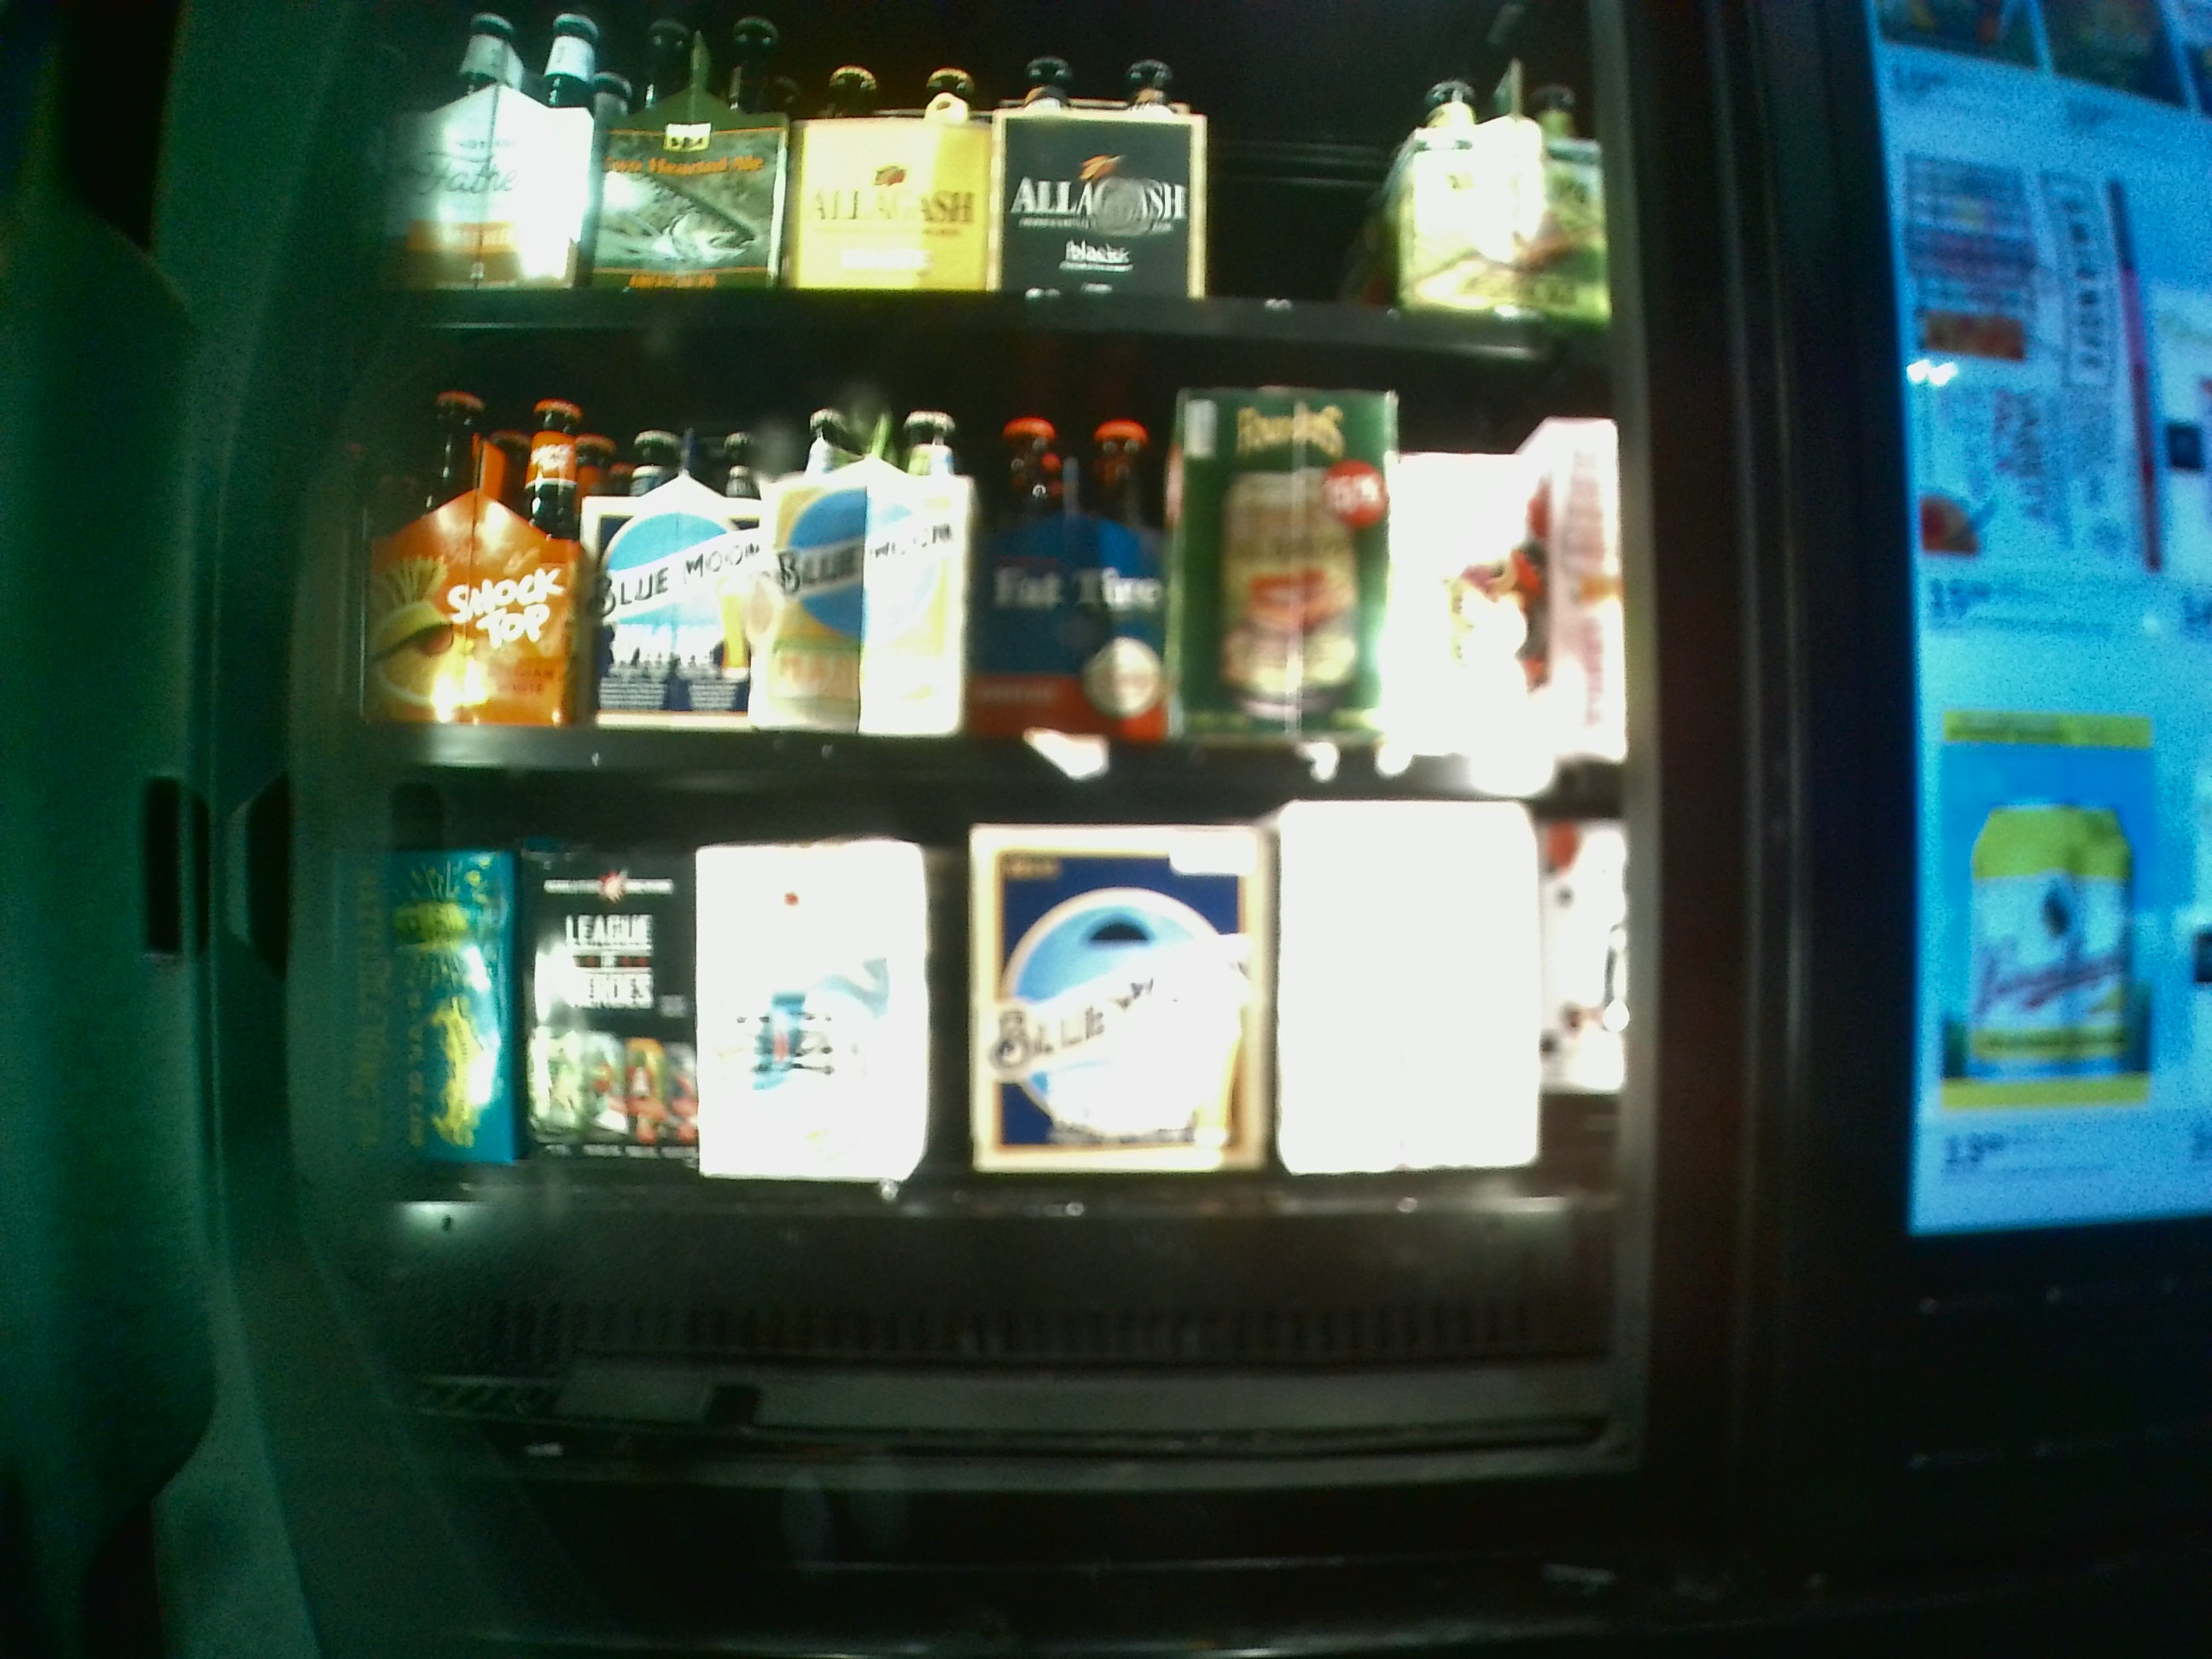shelf: (341, 802, 1618, 1462), (361, 329, 1618, 788)
